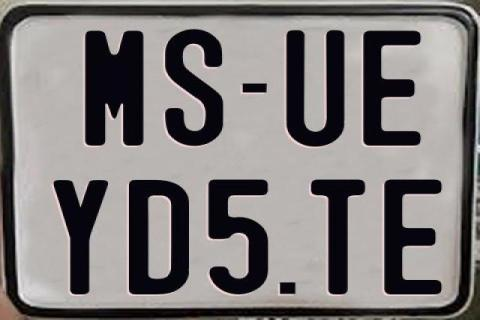0: (206, 177, 270, 296)
D: (126, 178, 192, 296)
E: (361, 29, 422, 149), (383, 179, 441, 296)
M: (85, 28, 146, 145)
S: (164, 27, 228, 147)
T: (310, 177, 366, 297)
U: (284, 30, 345, 146)
Y: (50, 177, 111, 297)
